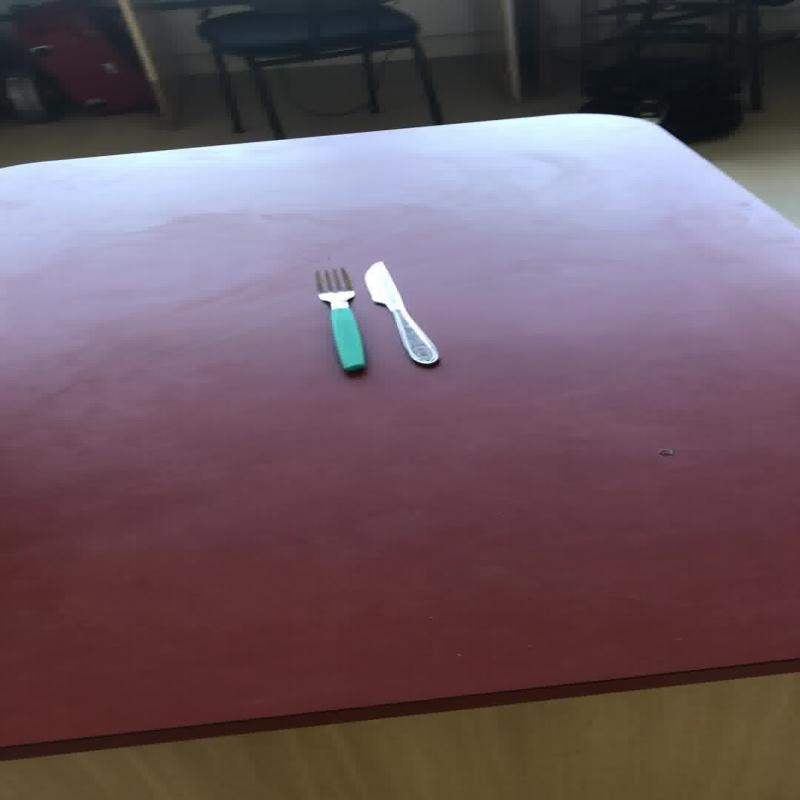fork: (312, 266, 366, 373)
knife: (311, 259, 440, 373), (362, 260, 439, 366)
